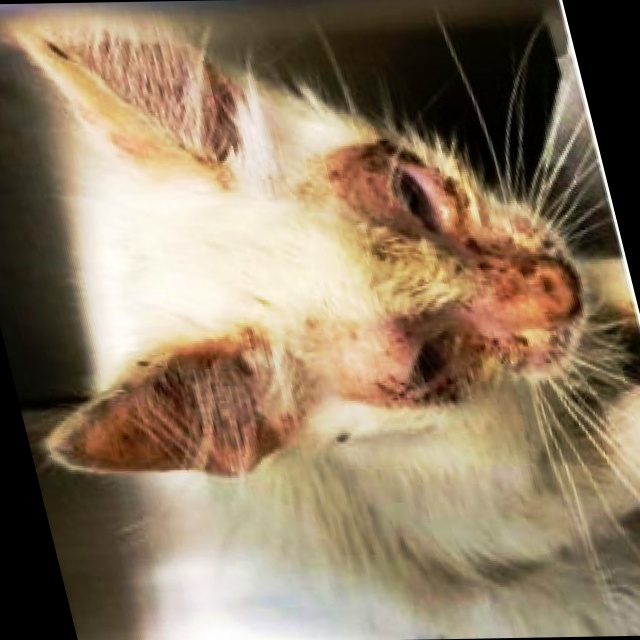ringworm: (338, 309, 440, 394), (455, 237, 552, 314), (308, 139, 400, 219), (441, 329, 524, 372)
